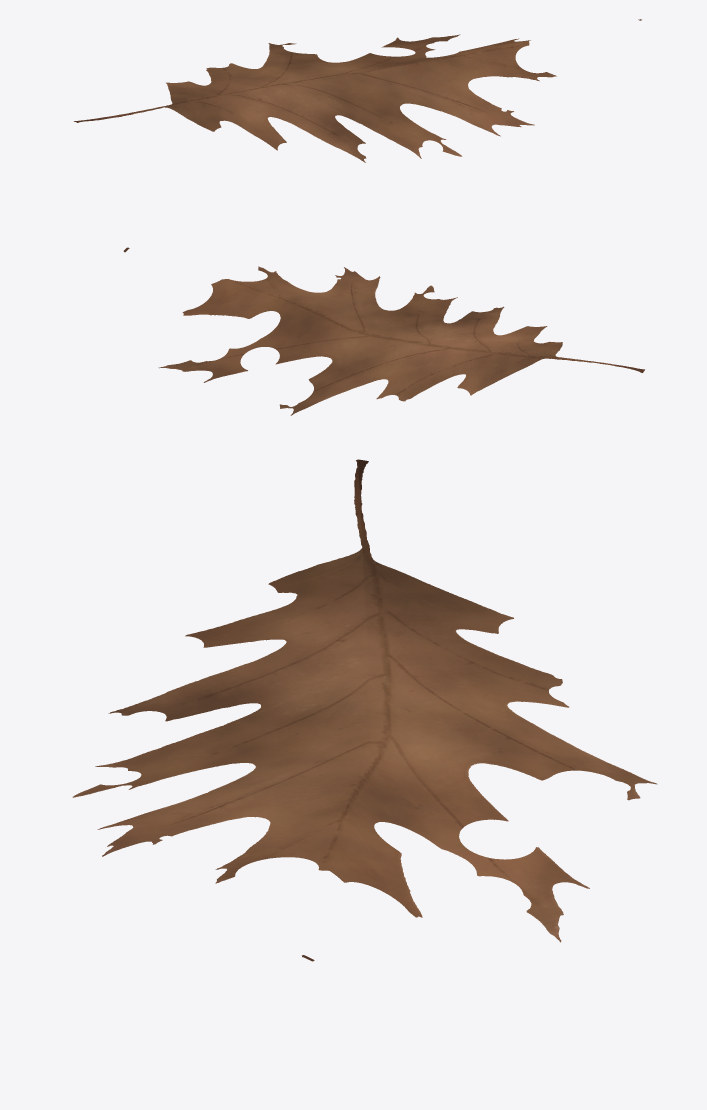
The model's file is leaf_oak_brown.glb.
The picture shows the model from 3 angles, top to bottom: view 1: azimuth 30°, elevation 25°; view 2: azimuth 150°, elevation 25°; view 3: azimuth 270°, elevation 25°; orthographic projection. The views are drawn at different scales.
Parts seen in each view (by area): view 1: leaf_oak_brown; view 2: leaf_oak_brown; view 3: leaf_oak_brown.
Boxes of the visible parts, x1,y1,x2,y2 form: leaf_oak_brown: (74, 19, 641, 162); leaf_oak_brown: (123, 247, 644, 415); leaf_oak_brown: (72, 459, 657, 961).
Size of the model in its own units: 1.45 by 0.1961 by 0.8341.
1 material, 1 textured.
